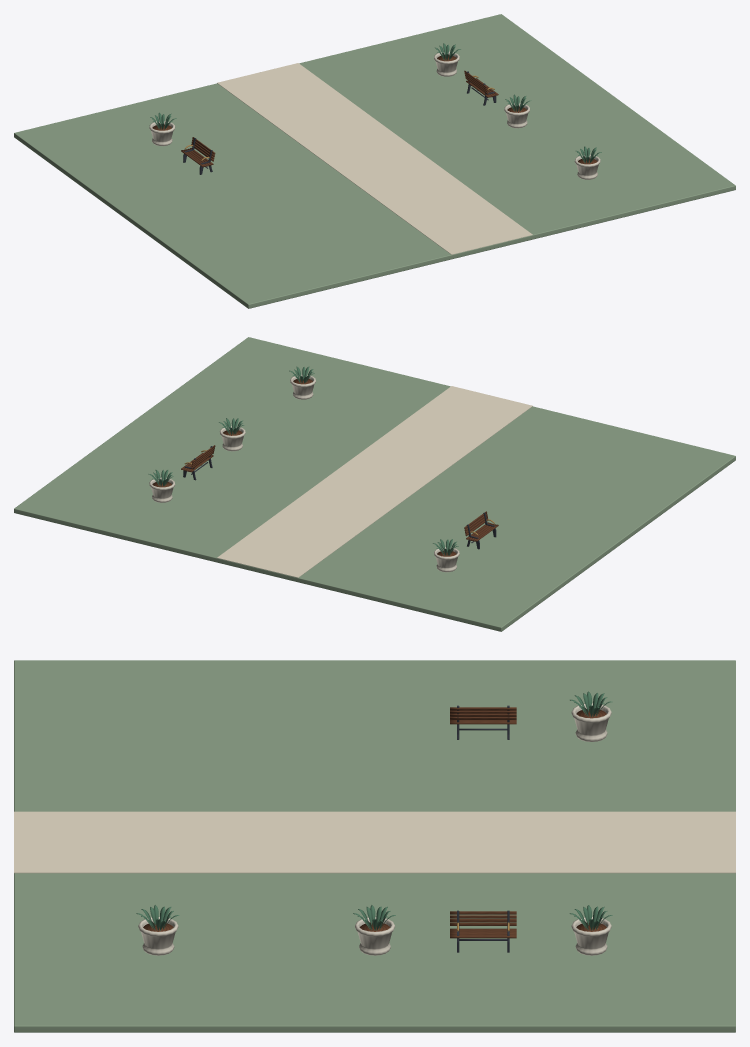
Rendered from park_garden.glb.
3 renders of one model, top to bottom at view 1: azimuth 30°, elevation 25°; view 2: azimuth 150°, elevation 25°; view 3: azimuth 270°, elevation 25°, orthographic. The views are drawn at different scales.
Parts seen in each view (by area): view 1: park_garden_floor, garden_path; view 2: park_garden_floor, garden_path; view 3: park_garden_floor, garden_path, moulded_planter_vessel.001, moulded_planter_vessel.003, moulded_planter_vessel.002, moulded_planter_vessel.
Part boxes in pixels (x1,y1,x2,y2): park_garden_floor: (14, 14, 735, 308); garden_path: (217, 63, 532, 254); park_garden_floor: (14, 337, 735, 631); garden_path: (217, 386, 532, 577); park_garden_floor: (14, 660, 735, 1032); garden_path: (14, 811, 735, 873); moulded_planter_vessel.001: (138, 917, 178, 955); moulded_planter_vessel.003: (571, 917, 611, 955); moulded_planter_vessel.002: (355, 917, 394, 955); moulded_planter_vessel: (571, 703, 611, 741).
Bounding box in the file's own units: 24 × 1.36 × 20.
7 materials, 1 textured.
